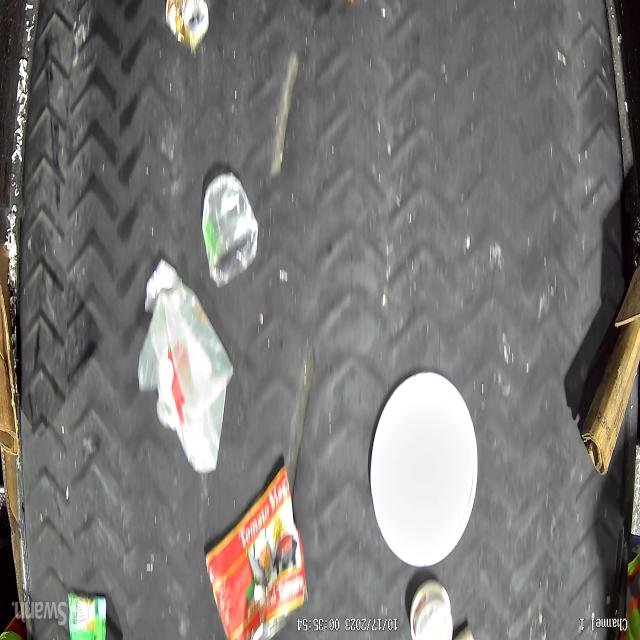can: (162, 0, 210, 53)
